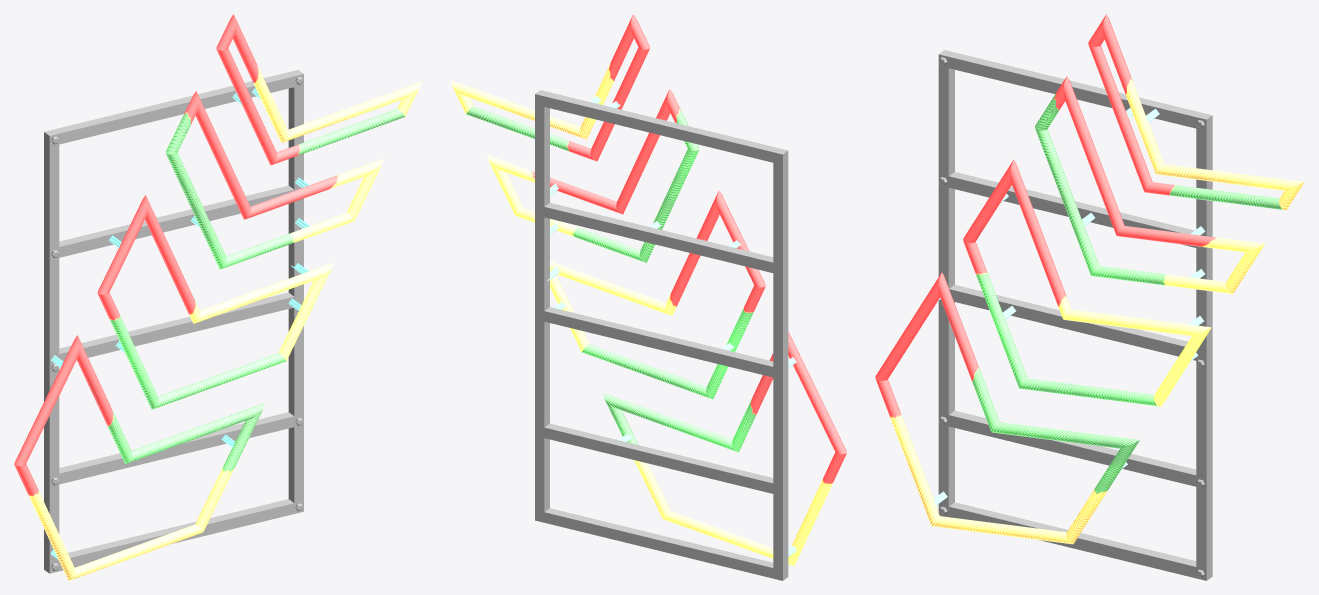
File: KB3D_CBP_NeonSign_J.fbx
The picture shows the model from 3 angles, left to right: view 1: azimuth 30°, elevation 25°; view 2: azimuth 150°, elevation 25°; view 3: azimuth 330°, elevation 25°; orthographic projection. The views are drawn at different scales.
Parts seen in each view (by area): view 1: KB3D_CBP_NeonSign_J_Main; view 2: KB3D_CBP_NeonSign_J_Main; view 3: KB3D_CBP_NeonSign_J_Main.
Boxes of the visible parts, x1,y1,x2,y2 form: KB3D_CBP_NeonSign_J_Main: [14, 14, 421, 580]; KB3D_CBP_NeonSign_J_Main: [450, 14, 846, 580]; KB3D_CBP_NeonSign_J_Main: [875, 14, 1304, 580].
Size of the model in its own units: 181 by 224 by 15.91.
